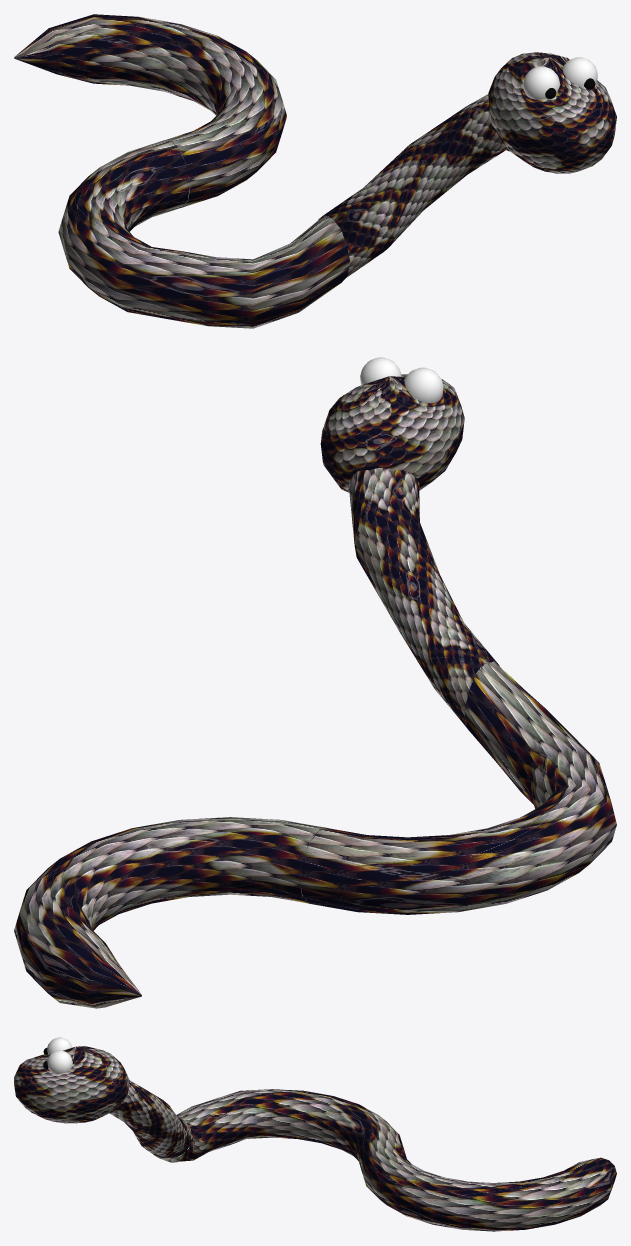
The model's file is snek.fbx.
The picture shows the model from 3 angles, top to bottom: view 1: azimuth 30°, elevation 25°; view 2: azimuth 150°, elevation 25°; view 3: azimuth 270°, elevation 25°; orthographic projection. The views are drawn at different scales.
Visible parts, largest first — view 1: Sphere001, Sphere002, Sphere003; view 2: Sphere001, Sphere002; view 3: Sphere001, Sphere003, Sphere002.
Part boxes in pixels (box(x1,y1,x2,y2)): Sphere001: box(14, 14, 616, 328); Sphere002: box(523, 66, 560, 99); Sphere003: box(562, 57, 597, 86); Sphere001: box(14, 374, 616, 1008); Sphere002: box(404, 367, 443, 403); Sphere001: box(14, 1046, 616, 1231); Sphere003: box(47, 1050, 72, 1073); Sphere002: box(47, 1037, 72, 1054).
Bounding box in the file's own units: 110 × 77.04 × 220.
Materials: 3 (3 with a texture image).
